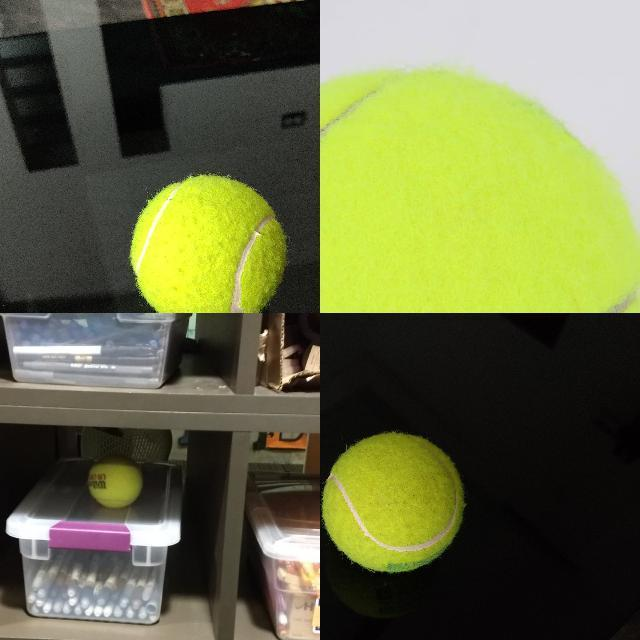tennis-ball: (320, 67, 639, 312), (127, 172, 289, 312), (320, 432, 466, 572), (87, 454, 143, 508)
